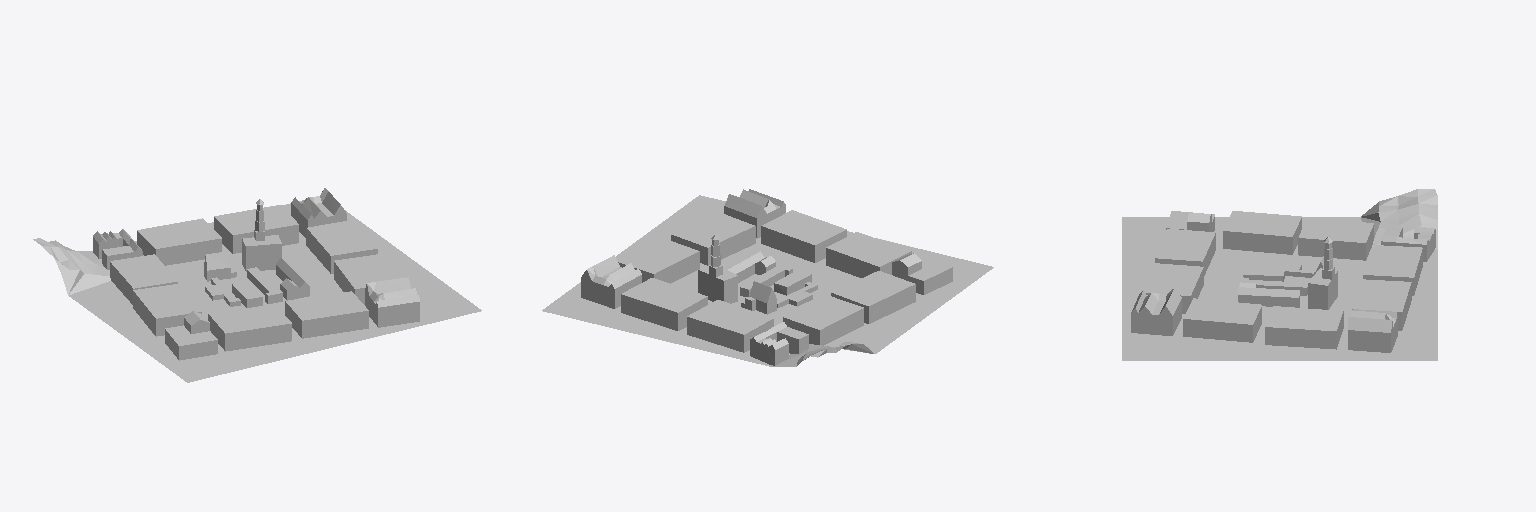
File: poznan-best.obj
The picture shows the model from 3 angles: view 1: azimuth 30°, elevation 25°; view 2: azimuth 150°, elevation 25°; view 3: azimuth 270°, elevation 25°; orthographic projection.
Bounding box in the file's own units: 297 × 63.57 × 276.